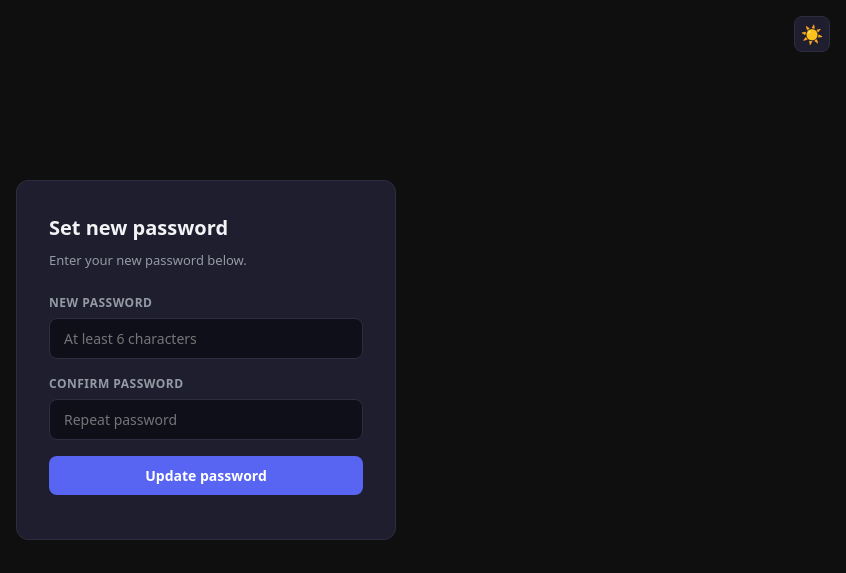
it: shows error when passwords do not match
Type "Newpass1!" into the password field with test id "rp-password" at (206, 339), box [49,318,363,359]
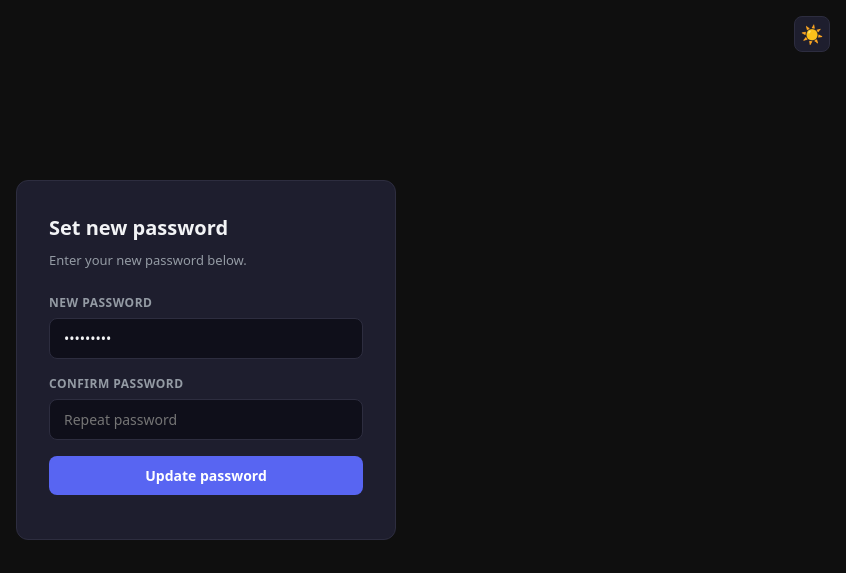
Type "Newpass2!" into the password field with test id "rp-confirm" at (206, 420), box [49,399,363,440]
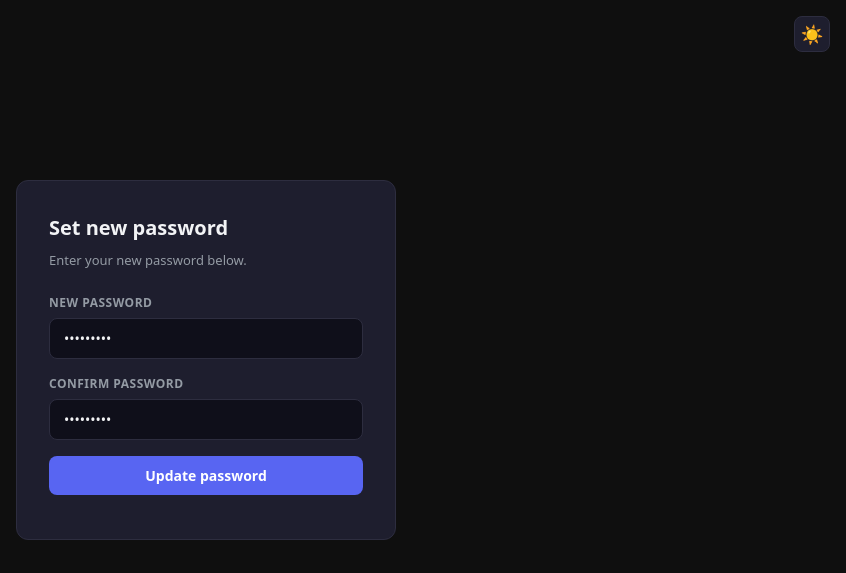
Click the button with test id "rp-submit" at (206, 476), box [49,456,363,495]
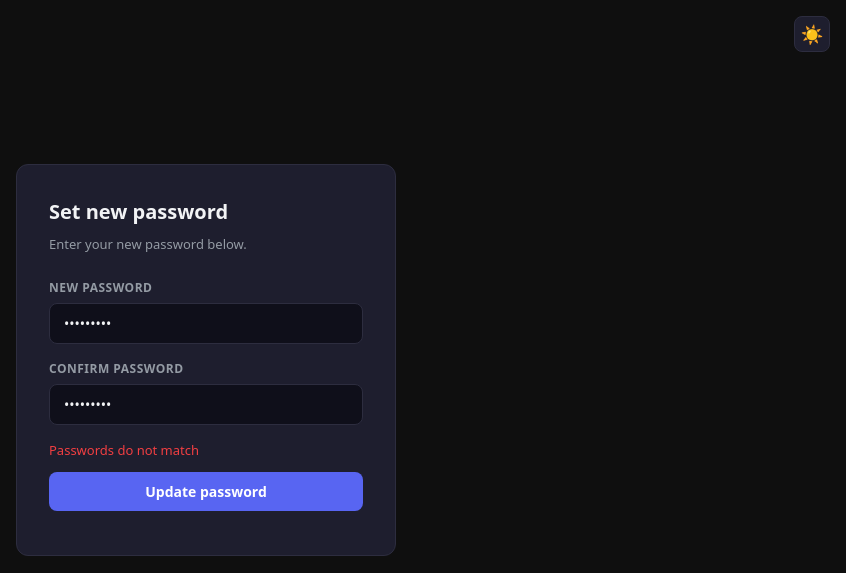
Result: the text with test id "rp-error" shows "do not match" at [49,440,199,458]
